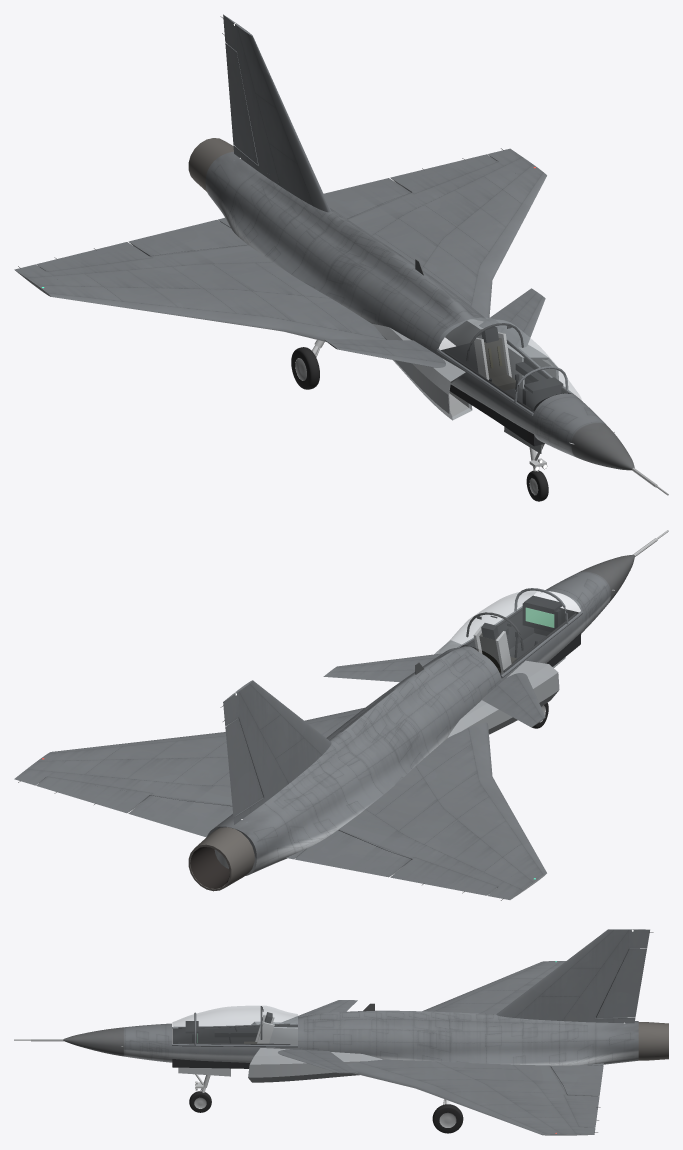
The model's file is delta-fighter.glb.
3 views of the same model, one above another, from view 1: azimuth 30°, elevation 25°; view 2: azimuth 150°, elevation 25°; view 3: azimuth 270°, elevation 25° (orthographic). The views are drawn at different scales.
Visible parts, largest first — view 1: wings_tail, fuselage, canopy_glass, cockpit, intakes, elevon_inner_R_mesh, canard_R_mesh, elevon_inner_L_mesh, rudder_mesh, canard_L_mesh, elevon_outer_L_mesh, elevon_outer_R_mesh (+3 smaller); view 2: wings_tail, fuselage, canopy_glass, cockpit, nozzle, elevon_inner_R_mesh, elevon_inner_L_mesh, intakes, rudder_mesh, canard_R_mesh, elevon_outer_L_mesh, elevon_outer_R_mesh (+2 smaller); view 3: fuselage, wings_tail, canopy_glass, intakes, cockpit, rudder_mesh, elevon_inner_L_mesh, nozzle, canard_L_mesh, canopy_frame, elevon_outer_L_mesh, gear_main_L_mesh (+3 smaller).
Part boxes in pixels (x1=…): wings_tail: x1=14, y1=14, x2=546, y2=341; fuselage: x1=205, y1=151, x2=634, y2=470; canopy_glass: x1=438, y1=318, x2=581, y2=411; cockpit: x1=441, y1=326, x2=566, y2=446; intakes: x1=372, y1=319, x2=558, y2=420; elevon_inner_R_mesh: x1=128, y1=220, x2=247, y2=256; canard_R_mesh: x1=323, y1=339, x2=445, y2=367; elevon_inner_L_mesh: x1=323, y1=178, x2=411, y2=218; rudder_mesh: x1=225, y1=43, x2=258, y2=165; canard_L_mesh: x1=479, y1=288, x2=545, y2=347; elevon_outer_L_mesh: x1=390, y1=154, x2=497, y2=193; elevon_outer_R_mesh: x1=36, y1=242, x2=150, y2=271; wings_tail: x1=14, y1=680, x2=546, y2=899; fuselage: x1=207, y1=554, x2=634, y2=875; canopy_glass: x1=438, y1=590, x2=581, y2=674; cockpit: x1=466, y1=595, x2=581, y2=675; nozzle: x1=188, y1=821, x2=254, y2=891; elevon_inner_R_mesh: x1=294, y1=830, x2=411, y2=877; elevon_inner_L_mesh: x1=128, y1=795, x2=232, y2=837; intakes: x1=434, y1=640, x2=559, y2=737; rudder_mesh: x1=225, y1=718, x2=263, y2=816; canard_R_mesh: x1=481, y1=673, x2=545, y2=727; elevon_outer_L_mesh: x1=36, y1=777, x2=150, y2=813; elevon_outer_R_mesh: x1=390, y1=858, x2=497, y2=895; fuselage: x1=63, y1=1010, x2=638, y2=1066; wings_tail: x1=347, y1=929, x2=649, y2=1135; canopy_glass: x1=172, y1=1006, x2=297, y2=1044; intakes: x1=248, y1=1021, x2=382, y2=1082; cockpit: x1=172, y1=1012, x2=297, y2=1068; rudder_mesh: x1=596, y1=948, x2=646, y2=1018; elevon_inner_L_mesh: x1=550, y1=1065, x2=603, y2=1096; nozzle: x1=624, y1=1022, x2=668, y2=1060; canard_L_mesh: x1=278, y1=1049, x2=357, y2=1073; canopy_frame: x1=172, y1=1006, x2=297, y2=1047; elevon_outer_L_mesh: x1=565, y1=1095, x2=599, y2=1127; gear_main_L_mesh: x1=432, y1=1099, x2=463, y2=1133.
Bounding box in the file's own units: 10.1 × 4.97 × 16.15.
Materials: 25 (1 with a texture image).
